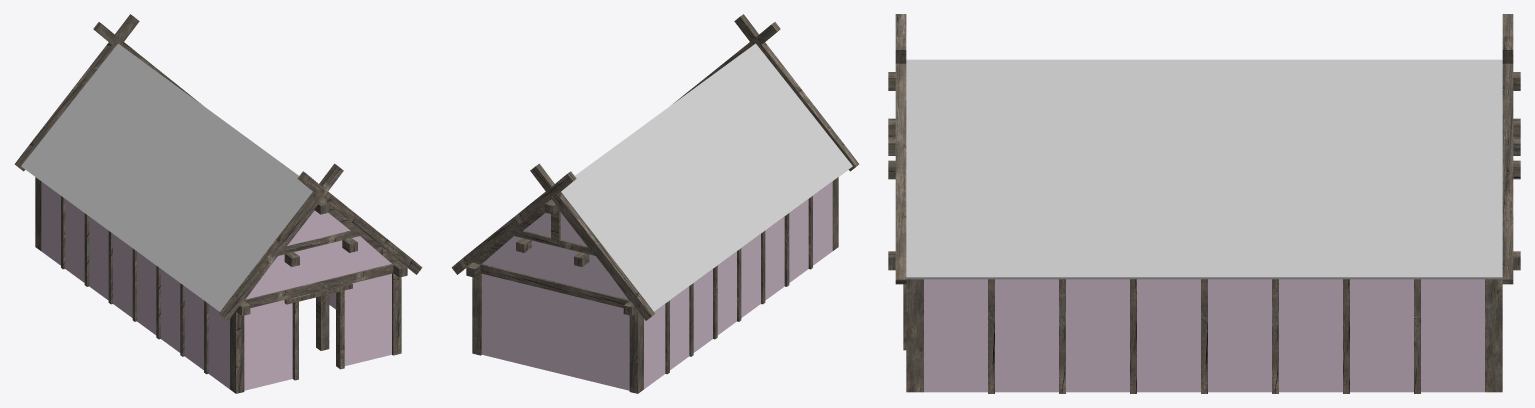
File: SM_Viking_hut_2.fbx
The picture shows the model from 3 angles, left to right: view 1: azimuth 30°, elevation 25°; view 2: azimuth 150°, elevation 25°; view 3: azimuth 270°, elevation 25°; orthographic projection. The views are drawn at different scales.
Parts seen in each view (by area): view 1: Hut; view 2: Hut; view 3: Hut.
Part boxes in pixels (box(x1,y1,x2,y2)): Hut: box(14, 14, 422, 393); Hut: box(451, 14, 859, 393); Hut: box(888, 14, 1520, 393).
Bounding box in the file's own units: 484 × 477 × 890.
